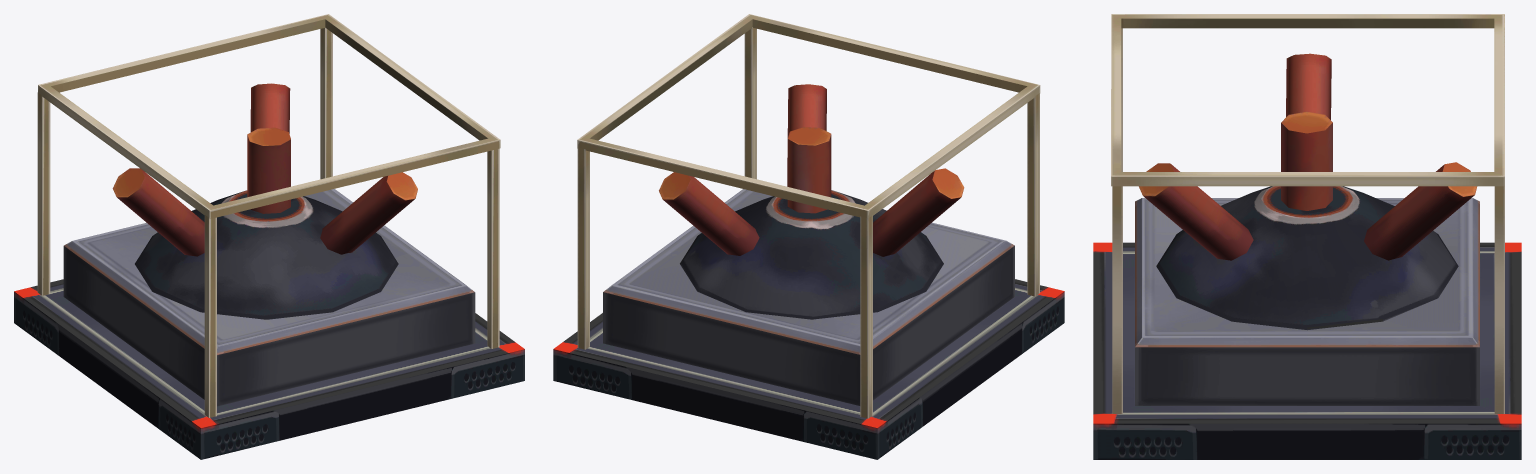
Rendered from trap_142_barrel.fbx.
3 renders of one model, left to right at view 1: azimuth 30°, elevation 25°; view 2: azimuth 150°, elevation 25°; view 3: azimuth 270°, elevation 25°, orthographic. The views are drawn at different scales.
Parts seen in each view (by area): view 1: trap_142_barrel; view 2: trap_142_barrel; view 3: trap_142_barrel.
Part boxes in pixels (x1,y1,x2,y2): trap_142_barrel: (14, 14, 524, 459); trap_142_barrel: (553, 14, 1064, 459); trap_142_barrel: (1093, 14, 1521, 459).
Size of the model in its own units: 1 by 0.7063 by 1.
Materials: 1 (1 with a texture image).
